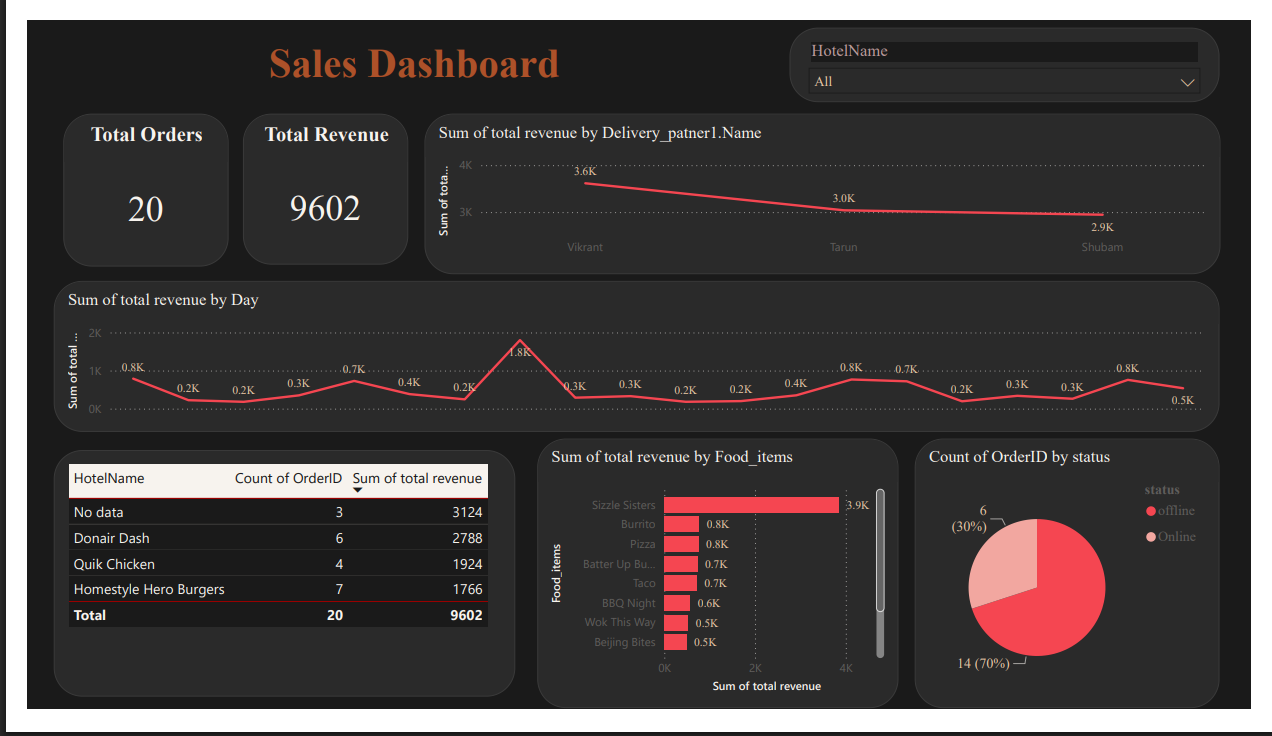

Layout of this report page (visuals, bound fields, positions):
{"tool":"powerbi","page":{"name":"Page 1","canvas":[1280,720],"ordinal":0},"visuals":[{"type":"tableEx","fields":{"Values":["orders_table.HotelName","CountNonNull(orders_table.OrderID)","Sum(orders_table.total revenue)"]},"box":[27.1,449.2,483.1,257.6],"z":0},{"type":"card","title":"Total Orders","fields":{"Values":["CountNonNull(orders_table.OrderID)"]},"box":[36.7,96.7,173.3,160],"z":1000},{"type":"card","title":"Total Revenue","fields":{"Values":["Sum(orders_table.total revenue)"]},"box":[225,96.7,173.3,158.3],"z":2000},{"type":"lineChart","fields":{"Category":["orders_table.OrderDate.Variation.Date Hierarchy.Day"],"Y":["Sum(orders_table.total revenue)"]},"box":[26.7,271.7,1220,158.3],"z":3000},{"type":"pieChart","fields":{"Category":["orders_table.status"],"Y":["CountNonNull(orders_table.OrderID)"]},"box":[928.1,436.8,319.3,282.5],"z":4000},{"type":"barChart","fields":{"Category":["orders_table.Food_items"],"Y":["Sum(orders_table.total revenue)"]},"box":[533.3,436.8,377.2,282.5],"z":5000},{"type":"lineChart","fields":{"Y":["Sum(orders_table.total revenue)"],"Category":["orders_table.Delivery_patner1.Name"]},"box":[415,96.7,833.3,168.3],"z":5001},{"type":"textbox","box":[36.7,15,735,63.3],"z":5002},{"type":"slicer","fields":{"Values":["orders_table.HotelName"]},"box":[796.7,6.7,450,78.3],"z":5003}]}

Visuals, with their boxes in screenshot pixels (x1, y1, x2, y2), scaled from the page's 1280x720 canvas onto the 1272x736 screenshot:
tableEx - orders_table.HotelName x CountNonNull(orders_table.OrderID): [x1=27, y1=459, x2=507, y2=723]
"Total Orders" card: [x1=36, y1=99, x2=209, y2=262]
"Total Revenue" card: [x1=224, y1=99, x2=396, y2=261]
lineChart - orders_table.OrderDate.Variation.Date Hierarchy.Day x Sum(orders_table.total revenue): [x1=27, y1=278, x2=1239, y2=440]
pieChart - orders_table.status x CountNonNull(orders_table.OrderID): [x1=922, y1=447, x2=1240, y2=735]
barChart - orders_table.Food_items x Sum(orders_table.total revenue): [x1=530, y1=447, x2=905, y2=735]
lineChart - Sum(orders_table.total revenue) x orders_table.Delivery_patner1.Name: [x1=412, y1=99, x2=1240, y2=271]
textbox: [x1=36, y1=15, x2=767, y2=80]
slicer - orders_table.HotelName: [x1=792, y1=7, x2=1239, y2=87]
